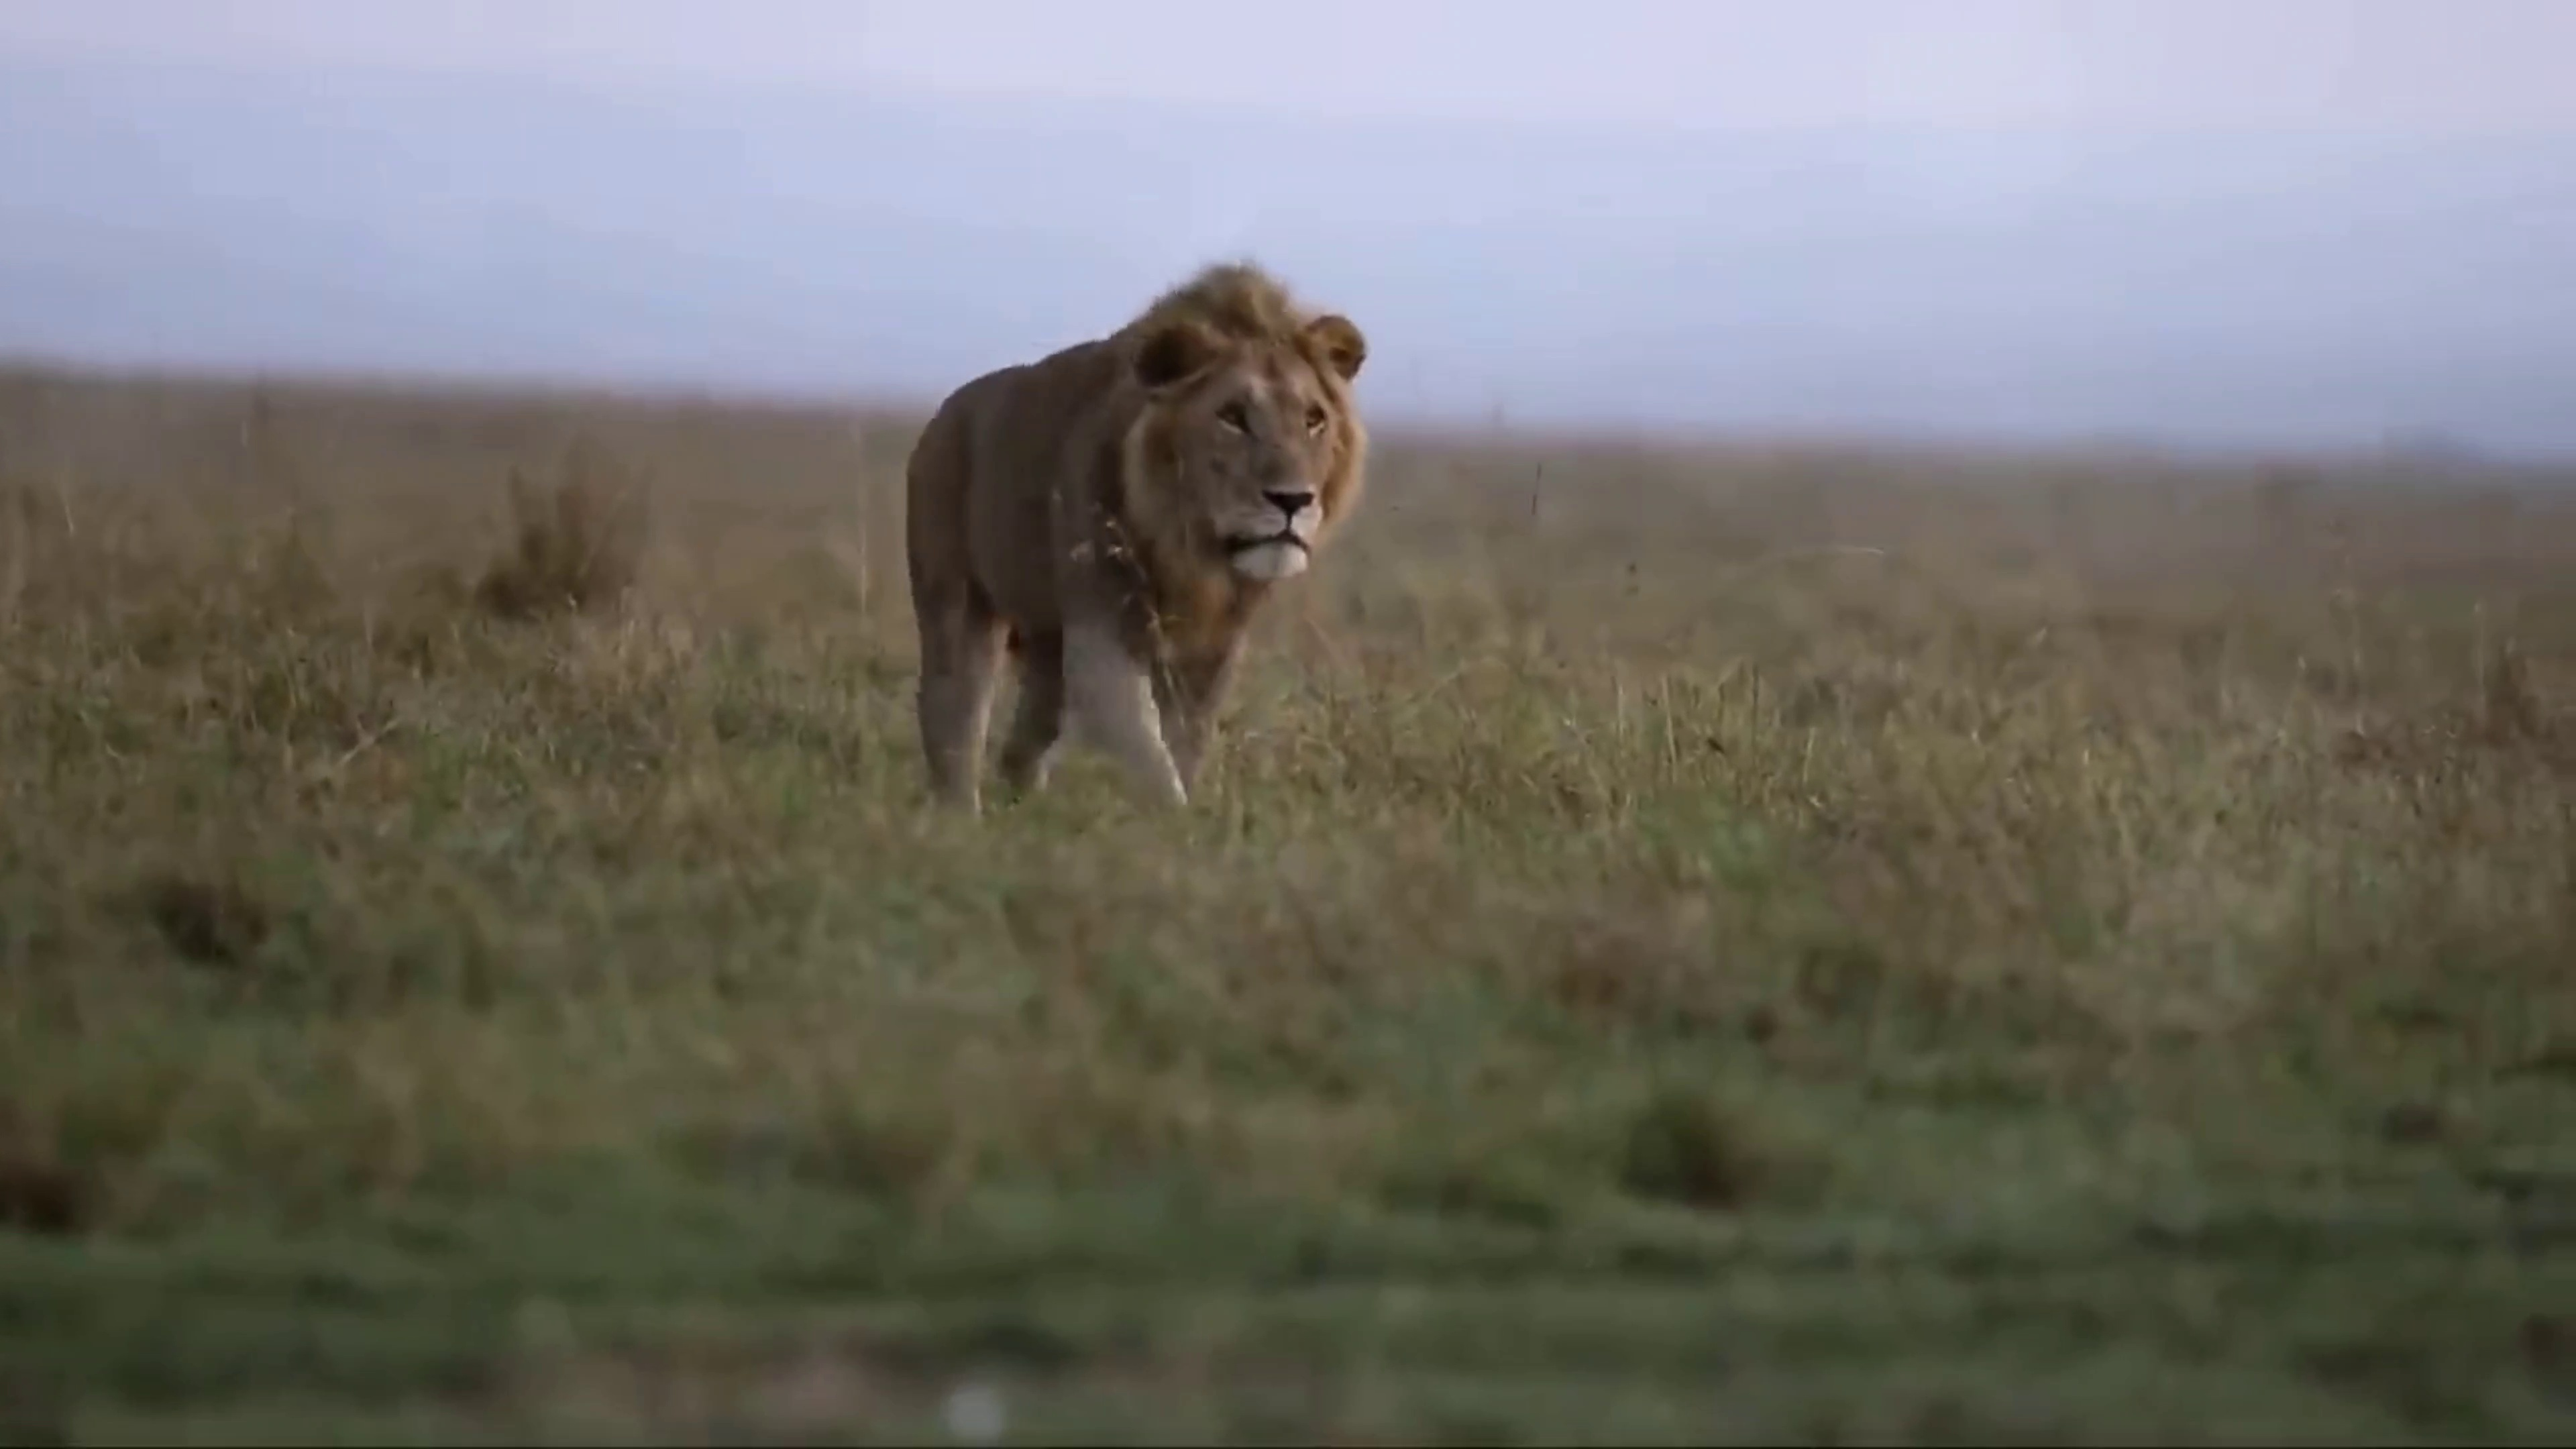Lion: (902, 255, 1366, 819)
